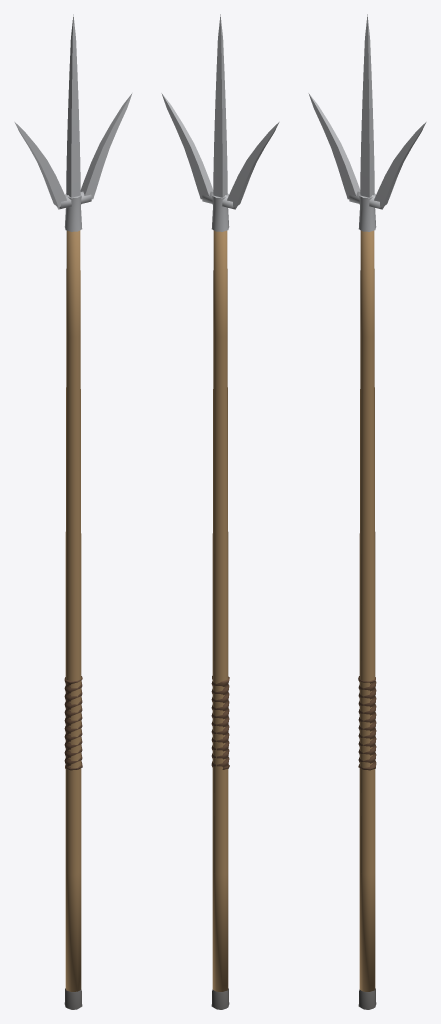
Rendered from ranseur.glb.
3 renders of one model, left to right at view 1: azimuth 30°, elevation 25°; view 2: azimuth 150°, elevation 25°; view 3: azimuth 330°, elevation 25°, orthographic.
Parts seen in each view (by area): view 1: ranseur; view 2: ranseur; view 3: ranseur.
Boxes of the visible parts, bbox=[...] form: ranseur: bbox=[14, 14, 132, 1009]; ranseur: bbox=[161, 14, 279, 1009]; ranseur: bbox=[308, 14, 426, 1009].
Bounding box in the file's own units: 0.7 × 5.61 × 0.0924.
